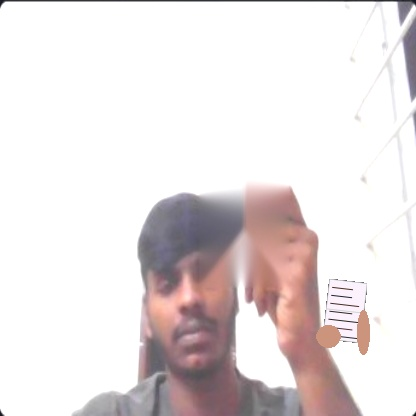cheat_chit: (322, 278, 367, 343)
